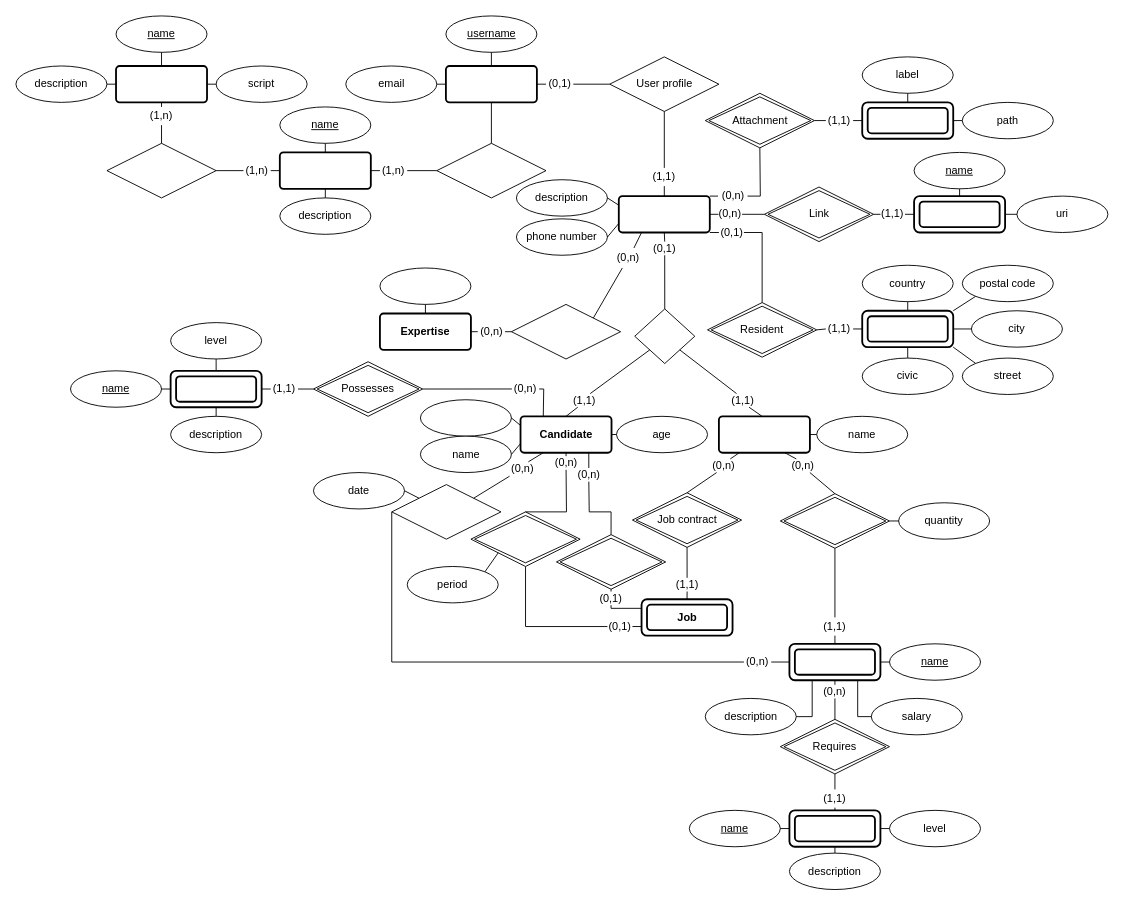
Image size: 1124x905. Some labels were removed from this diagram. The centre of each missing label's shape, as x and y in pixels:
"Address" belongs at (x=907, y=328).
"Application" belongs at (x=446, y=511).
"Current employment" belongs at (x=611, y=561).
"Employer" belongs at (x=764, y=434).
"Image" belongs at (x=907, y=120).
"Is" belongs at (x=664, y=336).
"Job offer" belongs at (x=834, y=661).
"Makes" belongs at (x=834, y=520).
"Past employment" belongs at (x=525, y=538).
"Profile" belongs at (x=663, y=214).
"Profile expertise" belongs at (x=566, y=331).
"Requirement" belongs at (x=834, y=828).
"Role" belongs at (x=324, y=170).
"Role service" belongs at (x=161, y=170).
"Service" belongs at (x=161, y=84).
"Skill" belongs at (x=215, y=388).
"Social account" belongs at (x=959, y=214).
"surname" belongs at (x=465, y=417).
"title" belongs at (x=425, y=285).
"User" belongs at (x=491, y=84).
"User role" belongs at (x=491, y=170).
